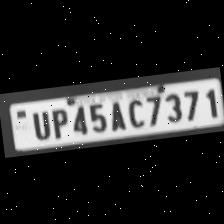1: (198, 85, 221, 119)
3: (160, 89, 184, 124)
4: (66, 102, 89, 136)
5: (85, 100, 108, 134)
7: (180, 87, 202, 122), (142, 92, 164, 126)
A: (104, 98, 127, 132)
C: (122, 94, 144, 128)
P: (46, 104, 70, 138)
U: (27, 108, 51, 140)
